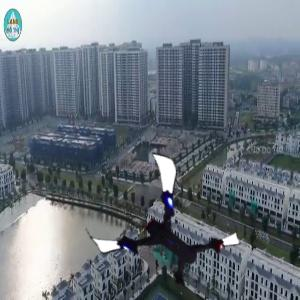drone: (94, 167, 226, 299)
